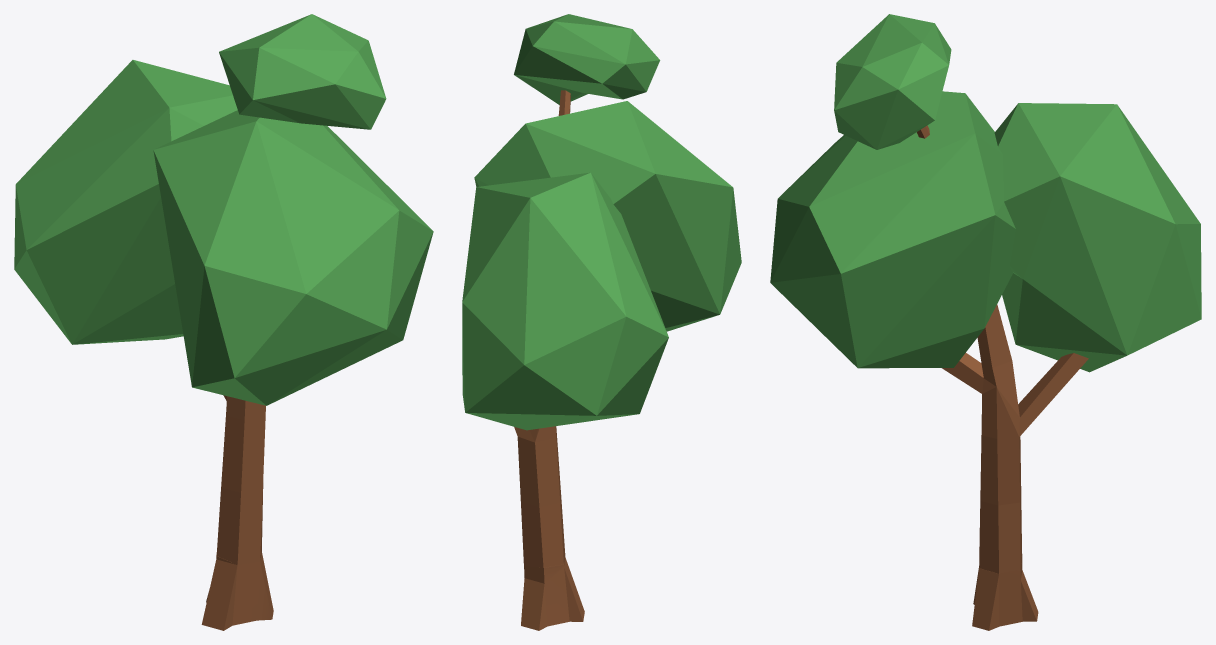
Rendered from foliage_tree_02_split_grp.fbx.
3 renders of one model, left to right at view 1: azimuth 30°, elevation 25°; view 2: azimuth 150°, elevation 25°; view 3: azimuth 270°, elevation 25°, orthographic. The views are drawn at different scales.
Visible parts, largest first — view 1: foliage_tree_02_split_1, foliage_tree_02_split_4, foliage_tree_02_split_3, foliage_tree_02_split_2; view 2: foliage_tree_02_split_1, foliage_tree_02_split_4, foliage_tree_02_split_2, foliage_tree_02_split_3; view 3: foliage_tree_02_split_1, foliage_tree_02_split_4, foliage_tree_02_split_3, foliage_tree_02_split_2.
Part boxes in pixels (<box>): foliage_tree_02_split_1: <box>14,14,433,420</box>; foliage_tree_02_split_4: <box>201,552,273,630</box>; foliage_tree_02_split_3: <box>216,484,263,564</box>; foliage_tree_02_split_2: <box>221,416,265,492</box>; foliage_tree_02_split_1: <box>462,14,741,442</box>; foliage_tree_02_split_4: <box>521,557,584,630</box>; foliage_tree_02_split_2: <box>517,432,560,506</box>; foliage_tree_02_split_3: <box>521,495,565,567</box>; foliage_tree_02_split_1: <box>770,14,1201,438</box>; foliage_tree_02_split_4: <box>972,554,1038,630</box>; foliage_tree_02_split_3: <box>979,494,1021,573</box>; foliage_tree_02_split_2: <box>980,435,1021,505</box>.
Bounding box in the file's own units: 286 × 594 × 394.
